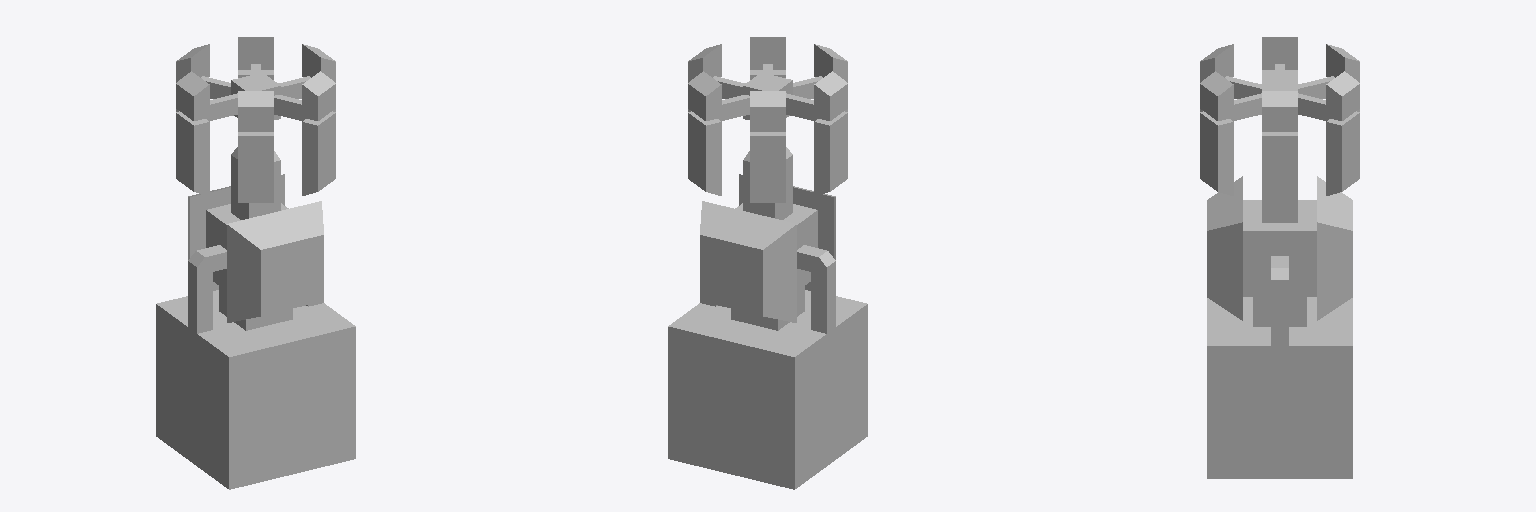
File: bot_dispatcher.obj
The picture shows the model from 3 angles: view 1: azimuth 30°, elevation 25°; view 2: azimuth 150°, elevation 25°; view 3: azimuth 270°, elevation 25°; orthographic projection.
Parts seen in each view (by area): view 1: bdioMainBlock, bdcBotEntranceS, bdaObject2, bdaObject1, bdaObject3, bdioPipeW, bdcBotEntranceN, bdaObject5, bdcBotDock, bdcConnector, bdaObject4, bdaObject6 (+4 smaller); view 2: bdioMainBlock, bdcBotEntranceN, bdaObject6, bdaObject1, bdaObject5, bdioPipeW, bdcBotEntranceS, bdaObject3, bdcBotDock, bdcConnector, bdaObject2, bdaObject4 (+4 smaller); view 3: bdioMainBlock, bdcBotDock, bdcBotEntranceN, bdcBotEntranceS, bdaObject4, bdaObject3, bdaObject5, bdioPipeE, bdaObject1, bdcBase, bdaObject2, bdaObject6 (+4 smaller).
Part boxes in pixels (x1,y1,x2,y2): bdioMainBlock: (156, 290, 355, 489); bdcBotEntranceS: (227, 201, 323, 322); bdaObject2: (238, 91, 273, 202); bdaObject1: (176, 71, 209, 195); bdaObject3: (302, 71, 335, 195); bdioPipeW: (188, 245, 226, 333); bdcBotEntranceN: (188, 174, 284, 290); bdaObject5: (238, 37, 273, 79); bdcBotDock: (206, 203, 288, 290); bdcConnector: (231, 180, 280, 219); bdaObject4: (302, 44, 335, 121); bdaObject6: (176, 44, 209, 121); bdioMainBlock: (668, 290, 867, 489); bdcBotEntranceN: (700, 201, 796, 322); bdaObject6: (750, 91, 785, 202); bdaObject1: (814, 71, 847, 195); bdaObject5: (688, 71, 721, 195); bdioPipeW: (797, 245, 835, 333); bdcBotEntranceS: (739, 174, 835, 290); bdaObject3: (750, 37, 785, 79); bdcBotDock: (735, 203, 817, 290); bdcConnector: (743, 180, 792, 219); bdaObject2: (814, 44, 847, 121); bdaObject4: (688, 44, 721, 121); bdioMainBlock: (1207, 297, 1352, 478); bdcBotDock: (1243, 200, 1316, 296); bdcBotEntranceN: (1317, 176, 1352, 320); bdcBotEntranceS: (1207, 176, 1242, 320); bdaObject4: (1262, 91, 1297, 202); bdaObject3: (1200, 71, 1233, 195); bdaObject5: (1326, 71, 1359, 195); bdioPipeE: (1271, 256, 1288, 345); bdaObject1: (1262, 37, 1297, 74); bdcBase: (1253, 297, 1306, 326); bdaObject2: (1200, 44, 1233, 121); bdaObject6: (1326, 44, 1359, 121).
Size of the model in its own units: 1.12 by 2.89 by 1.1.